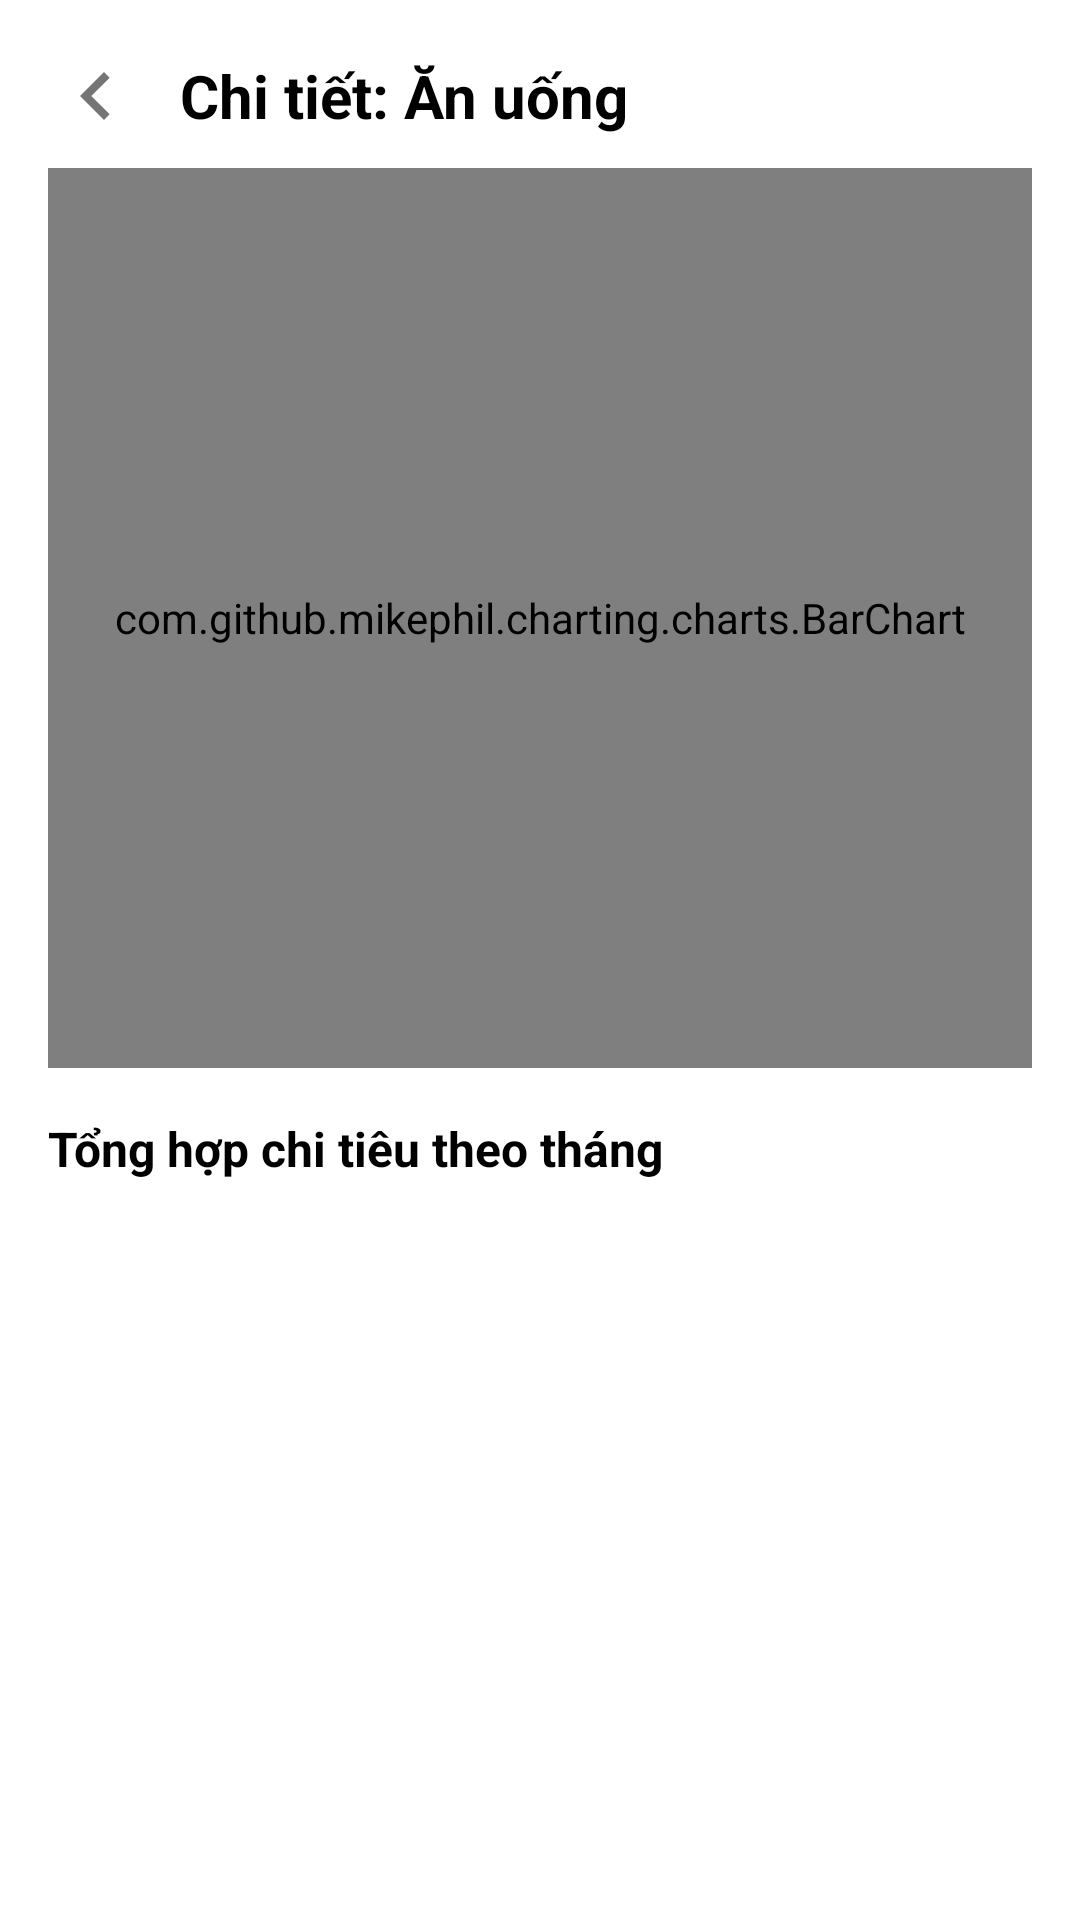

Screen size 1080w x 1920h. Icon name, then its box in pixels as (x1, y1, x2, y2):
arrow left: (80, 72, 110, 120)
